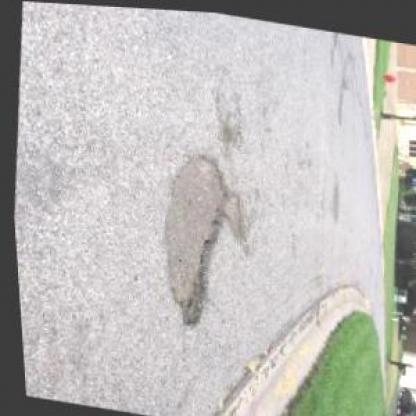pothole: (146, 144, 237, 330), (216, 188, 250, 246), (214, 122, 234, 148)
